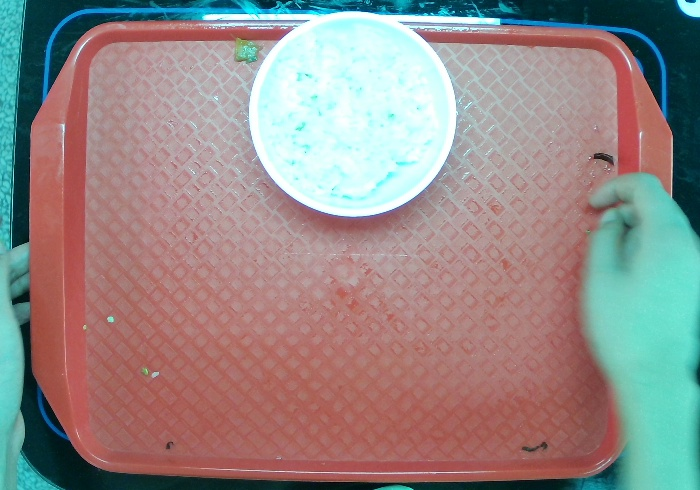YKMZ-Fan_Wan: (248, 11, 457, 218)
